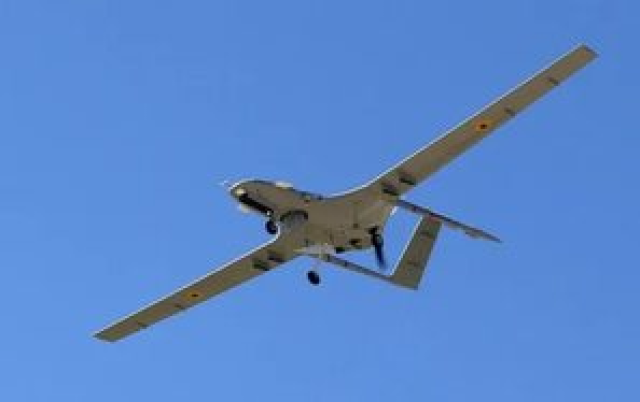military drone: (91, 42, 600, 342)
